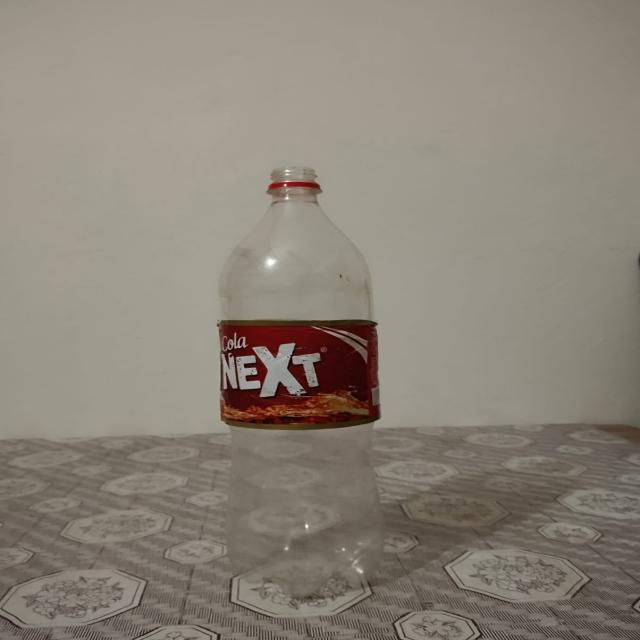bottle: (214, 166, 378, 595)
label: (215, 314, 384, 429)
